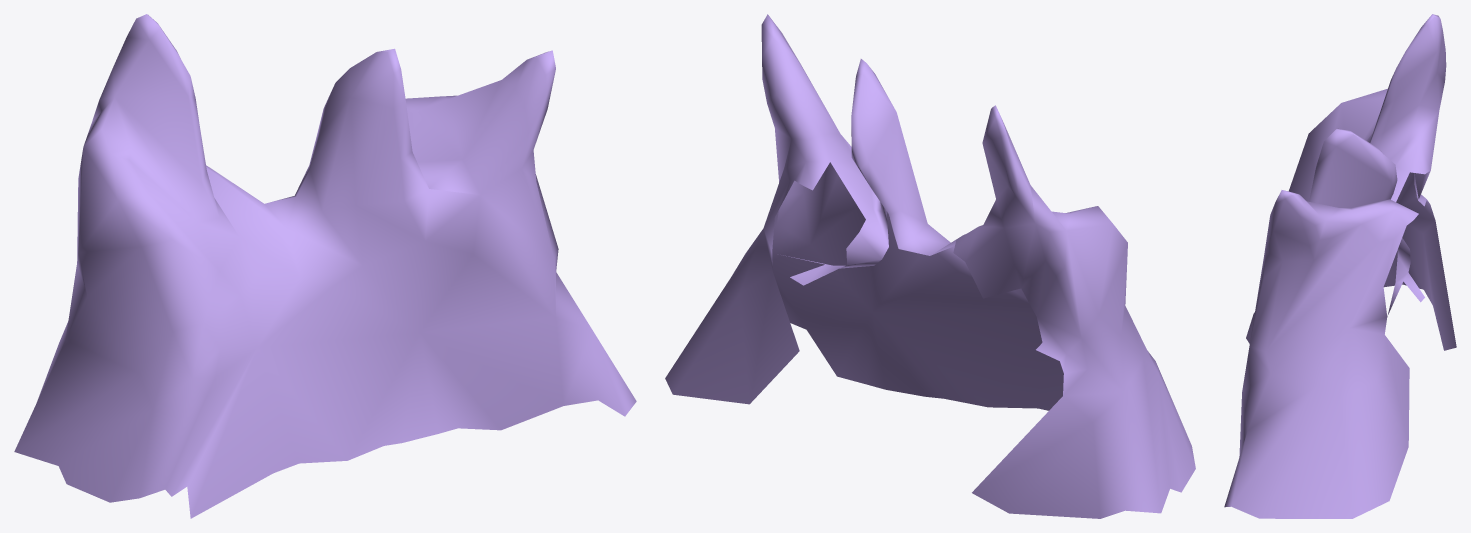
The model's file is ytlds_Object (2).fbx.
The picture shows the model from 3 angles, left to right: view 1: azimuth 30°, elevation 25°; view 2: azimuth 150°, elevation 25°; view 3: azimuth 270°, elevation 25°; orthographic projection. The views are drawn at different scales.
Parts seen in each view (by area): view 1: Object02; view 2: Object02; view 3: Object02.
Part boxes in pixels (x1=…): Object02: x1=14, y1=14, x2=636, y2=518; Object02: x1=665, y1=14, x2=1195, y2=518; Object02: x1=1224, y1=14, x2=1456, y2=518.
Size of the model in its own units: 295 by 217 by 130.
